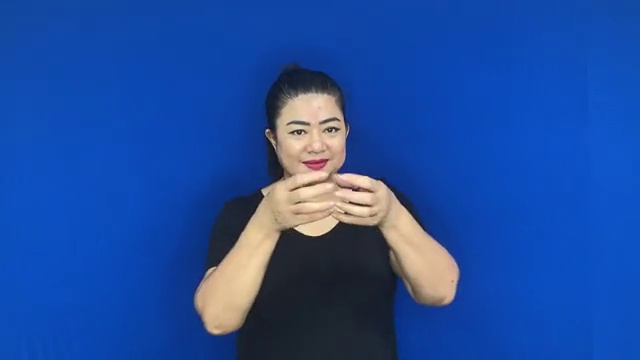egg: (253, 163, 398, 236)
